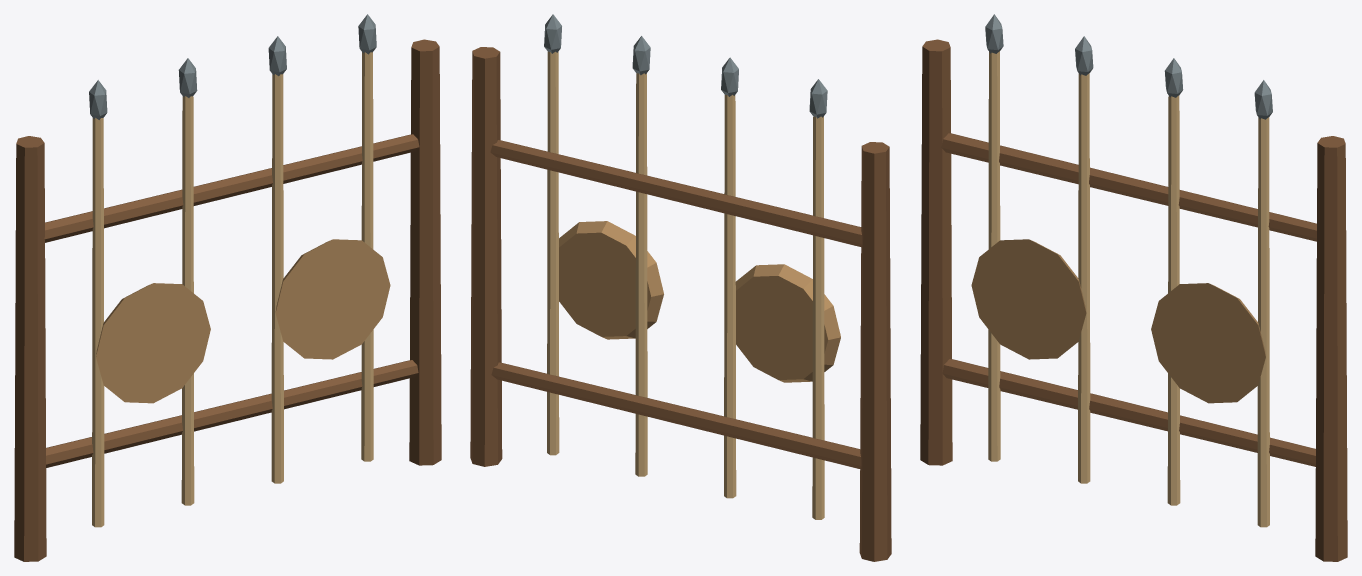
The model's file is CC_Armory.fbx.
The picture shows the model from 3 angles, left to right: view 1: azimuth 30°, elevation 25°; view 2: azimuth 150°, elevation 25°; view 3: azimuth 330°, elevation 25°; orthographic projection.
Parts seen in each view (by area): view 1: Rack post.002, Rack post.003, Hung shield.001, Hung shield, Rack bar.001, Rack bar, Spear, Spear.002, Spear.003, Spear.001, Spear tip.002, Spear tip.003 (+2 smaller); view 2: Rack post.002, Rack post.003, Hung shield, Hung shield.001, Rack bar.001, Rack bar, Spear.002, Spear, Spear.003, Spear.001, Spear tip.002, Spear tip (+2 smaller); view 3: Rack post.003, Rack post.002, Hung shield, Hung shield.001, Rack bar.001, Rack bar, Spear.003, Spear.001, Spear, Spear.002, Spear tip.003, Spear tip (+2 smaller).
Part boxes in pixels (x1=…): Rack post.002: x1=14, y1=136, x2=46, y2=561; Rack post.003: x1=409, y1=39, x2=441, y2=465; Hung shield.001: x1=275, y1=239, x2=390, y2=359; Hung shield: x1=96, y1=283, x2=210, y2=403; Rack bar.001: x1=44, y1=134, x2=419, y2=242; Rack bar: x1=46, y1=360, x2=418, y2=467; Spear: x1=92, y1=118, x2=104, y2=527; Spear.002: x1=271, y1=74, x2=283, y2=483; Spear.003: x1=361, y1=52, x2=373, y2=461; Spear.001: x1=181, y1=96, x2=194, y2=505; Spear tip.002: x1=268, y1=36, x2=286, y2=76; Spear tip.003: x1=358, y1=14, x2=376, y2=54; Rack post.002: x1=859, y1=142, x2=891, y2=561; Rack post.003: x1=470, y1=47, x2=502, y2=466; Hung shield: x1=735, y1=264, x2=840, y2=382; Hung shield.001: x1=559, y1=221, x2=663, y2=339; Rack bar.001: x1=490, y1=140, x2=862, y2=246; Rack bar: x1=491, y1=362, x2=861, y2=468; Spear.002: x1=635, y1=73, x2=647, y2=476; Spear: x1=812, y1=116, x2=824, y2=519; Spear.003: x1=547, y1=51, x2=559, y2=455; Spear.001: x1=724, y1=95, x2=736, y2=498; Spear tip.002: x1=632, y1=36, x2=650, y2=75; Spear tip: x1=809, y1=79, x2=827, y2=118; Rack post.003: x1=1315, y1=136, x2=1347, y2=561; Rack post.002: x1=920, y1=39, x2=952, y2=465; Hung shield: x1=971, y1=239, x2=1086, y2=359; Hung shield.001: x1=1151, y1=283, x2=1265, y2=403; Rack bar.001: x1=941, y1=133, x2=1316, y2=241; Rack bar: x1=942, y1=359, x2=1315, y2=466; Spear.003: x1=1257, y1=117, x2=1269, y2=527; Spear.001: x1=1078, y1=73, x2=1090, y2=483; Spear: x1=988, y1=51, x2=1000, y2=461; Spear.002: x1=1167, y1=95, x2=1180, y2=505; Spear tip.003: x1=1254, y1=80, x2=1272, y2=119; Spear tip: x1=985, y1=14, x2=1003, y2=53.
Bounding box in the file's own units: 2.36 × 2.47 × 0.2221.
